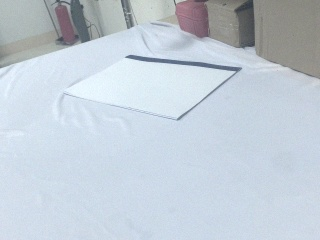box: (252, 1, 319, 81), (204, 1, 255, 49)
